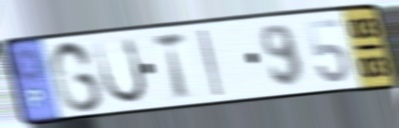5: (302, 15, 352, 84)
9: (259, 22, 306, 90)
G: (48, 38, 107, 115)
I: (196, 28, 226, 99)
T: (149, 29, 191, 102)
U: (91, 35, 150, 107)
